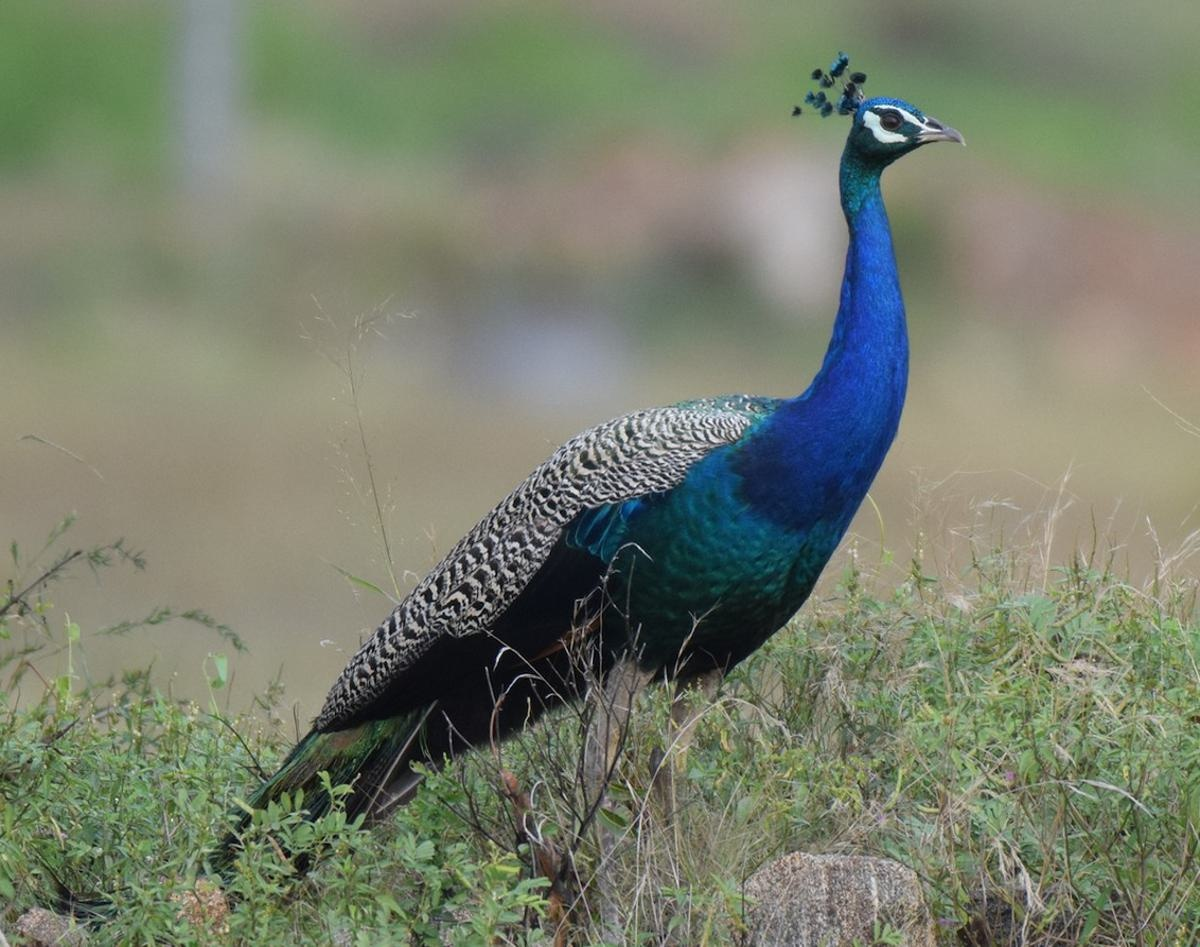peacock: (207, 47, 1014, 947)
